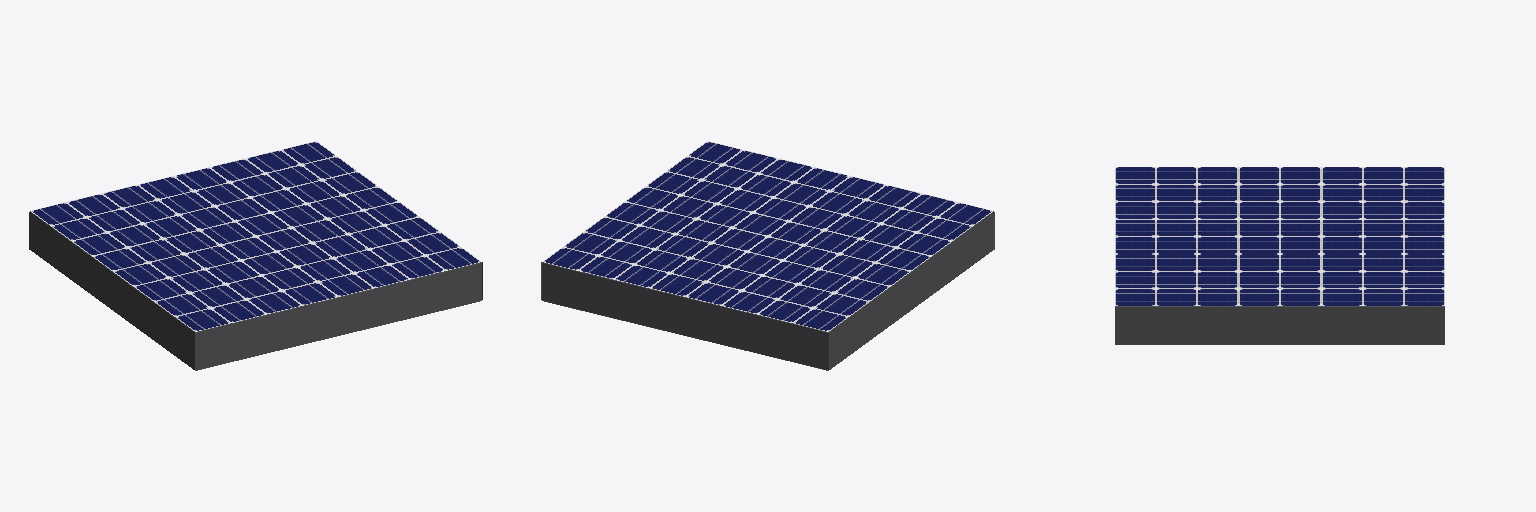
3 renders of one model, left to right at view 1: azimuth 30°, elevation 25°; view 2: azimuth 150°, elevation 25°; view 3: azimuth 270°, elevation 25°, orthographic.
Visible parts, largest first — view 1: Solarpanel2, Solarpanel4, Solarpanel7, Solarpanel1; view 2: Solarpanel2, Solarpanel6, Solarpanel7, Solarpanel1; view 3: Solarpanel2, Solarpanel5, Solarpanel1.
Part boxes in pixels (bbox=[...]): Solarpanel2: bbox=[31, 141, 480, 331]; Solarpanel4: bbox=[196, 263, 481, 369]; Solarpanel7: bbox=[29, 212, 194, 369]; Solarpanel1: bbox=[30, 212, 481, 369]; Solarpanel2: bbox=[543, 141, 992, 331]; Solarpanel6: bbox=[542, 263, 827, 369]; Solarpanel7: bbox=[829, 212, 994, 369]; Solarpanel1: bbox=[542, 212, 993, 369]; Solarpanel2: bbox=[1115, 167, 1444, 305]; Solarpanel5: bbox=[1115, 308, 1444, 344]; Solarpanel1: bbox=[1115, 306, 1444, 307].
Size of the model in its own units: 8.04 by 1.04 by 8.04.
4 materials, 1 textured.